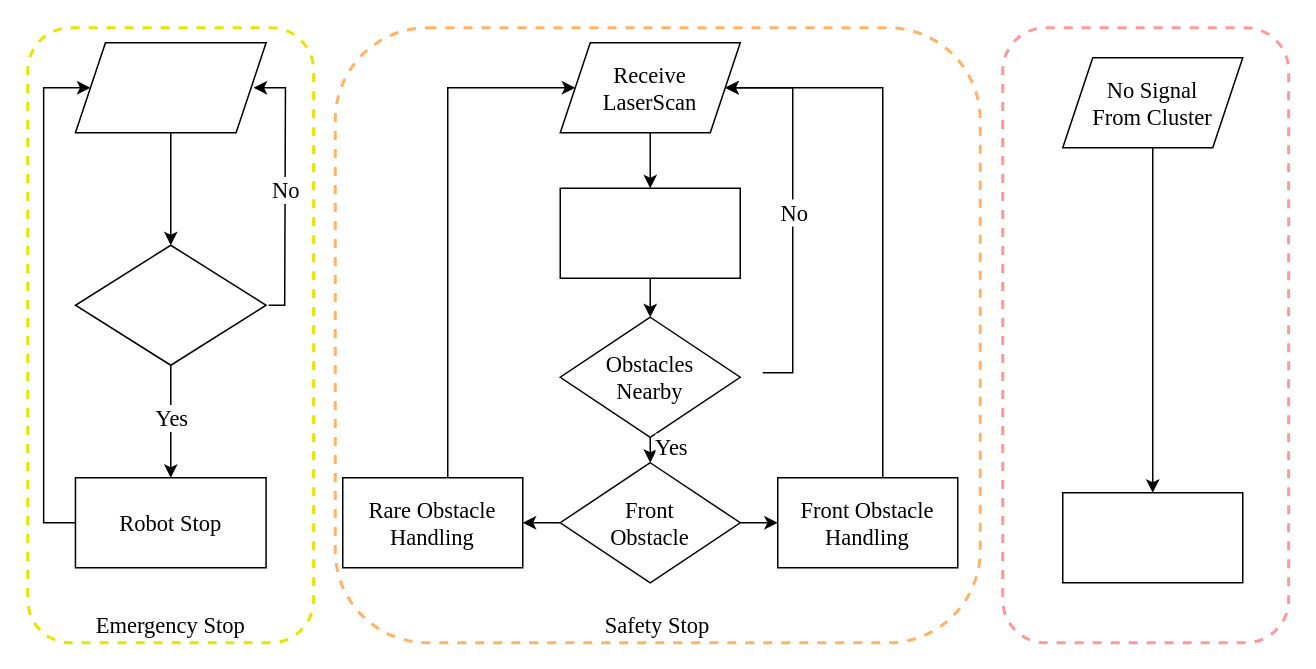
Image size: 1316x669. Some labels were removed from this diagram. The box of each missing label's shape, as (x1, y1, x2, y2) in pixels:
Disconnected Stop: (1000, 26, 1289, 644)
Far: (74, 244, 266, 365)
Obstacles Recognition: (559, 187, 740, 278)
Receive Trajectory: (74, 41, 266, 133)
Robot Stop and Reconnect: (1061, 491, 1243, 583)
